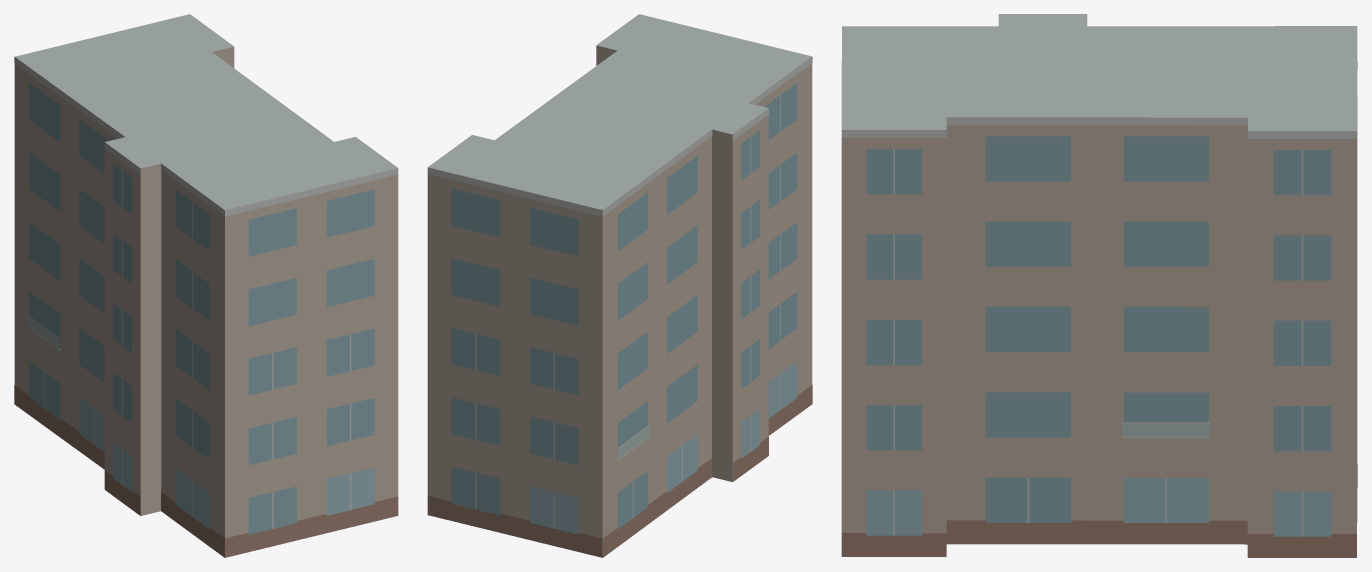
The model's file is survey-upis-32874554.glb.
The picture shows the model from 3 angles, left to right: view 1: azimuth 30°, elevation 25°; view 2: azimuth 150°, elevation 25°; view 3: azimuth 270°, elevation 25°; orthographic projection. The views are drawn at different scales.
Visible parts, largest first — view 1: survey-upis-32874554.tmp; view 2: survey-upis-32874554.tmp; view 3: survey-upis-32874554.tmp.
Part boxes in pixels (x1,y1,x2,y2): survey-upis-32874554.tmp: (14,14,398,557); survey-upis-32874554.tmp: (427,14,812,557); survey-upis-32874554.tmp: (841,14,1357,557).
Bounding box in the file's own units: 7.66 × 13 × 14.25.
